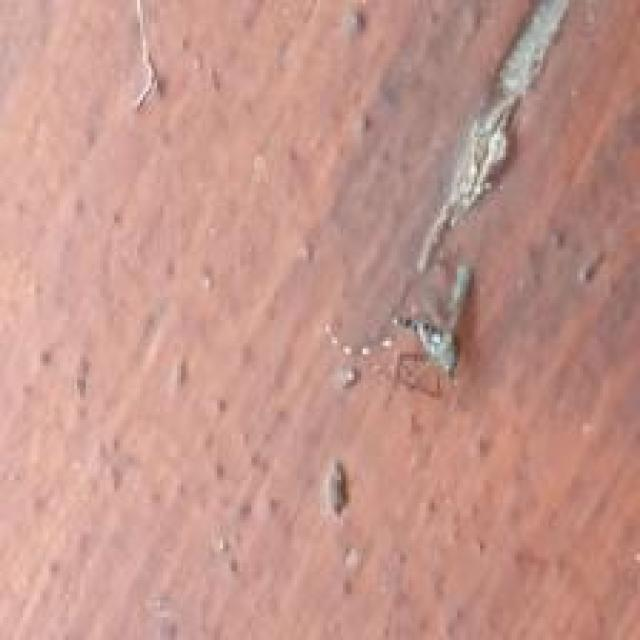Aedes albopictus: (390, 261, 476, 396)
